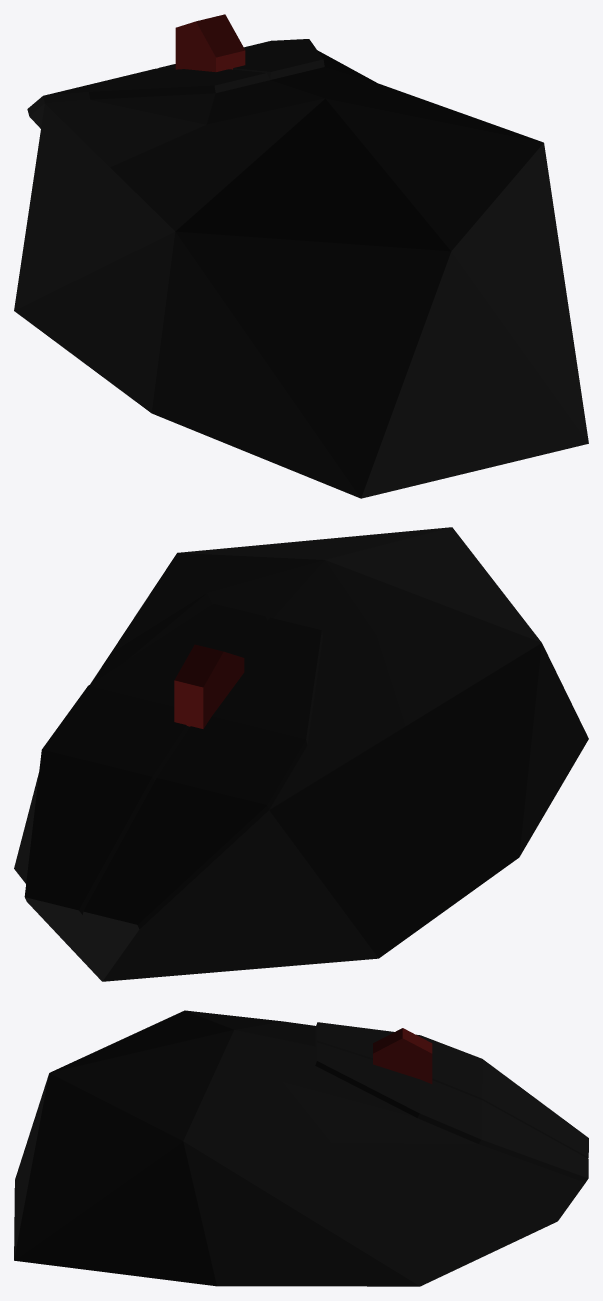
The model's file is Mouse.fbx.
The picture shows the model from 3 angles, top to bottom: view 1: azimuth 30°, elevation 25°; view 2: azimuth 150°, elevation 25°; view 3: azimuth 270°, elevation 25°; orthographic projection. The views are drawn at different scales.
Visible parts, largest first — view 1: Mouse; view 2: Mouse; view 3: Mouse.
Part boxes in pixels (left/top/right/bottom): Mouse: left=14, top=14, right=588, bottom=498; Mouse: left=14, top=527, right=588, bottom=981; Mouse: left=14, top=1010, right=588, bottom=1286.
Bounding box in the file's own units: 0.1563 × 0.0573 × 0.0845.
